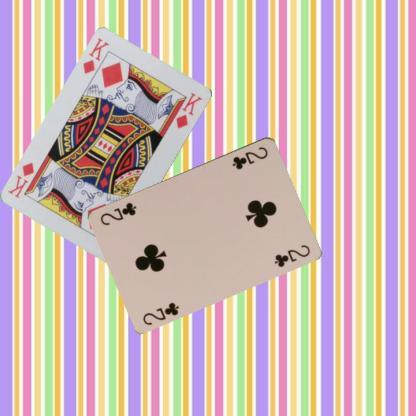2c: (140, 300, 181, 326), (230, 144, 270, 170)
Kd: (80, 35, 110, 76)
